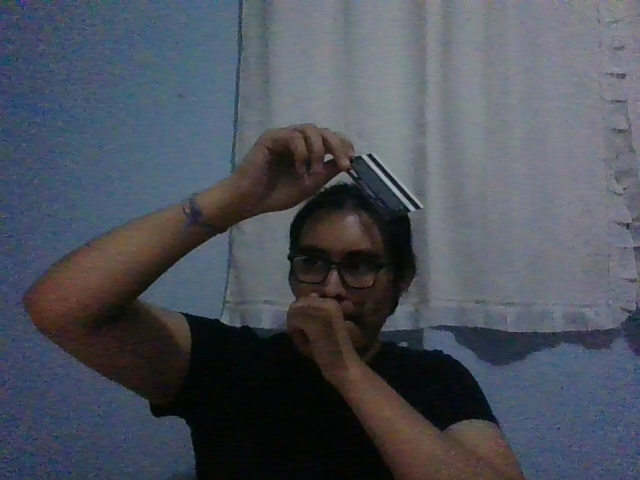tarjeta: (346, 152, 424, 220)
